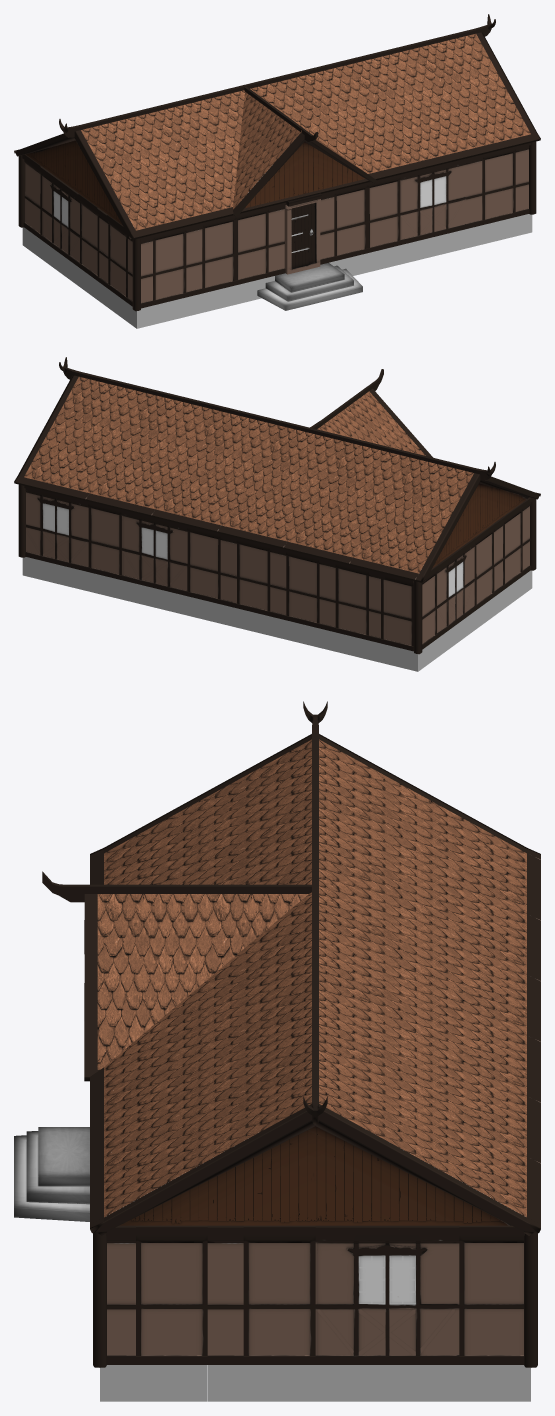
The model's file is house_I.fbx.
The picture shows the model from 3 angles, top to bottom: view 1: azimuth 30°, elevation 25°; view 2: azimuth 150°, elevation 25°; view 3: azimuth 270°, elevation 25°; orthographic projection. The views are drawn at different scales.
Parts seen in each view (by area): view 1: houseMesh, roofMesh, houseBase; view 2: houseMesh, roofMesh, houseBase; view 3: roofMesh, houseMesh, houseBase.
Boxes of the visible parts, x1,y1,x2,y2 form: houseMesh: (14, 14, 540, 311); roofMesh: (81, 33, 530, 230); houseBase: (22, 165, 532, 328); houseMesh: (14, 357, 540, 654); roofMesh: (24, 376, 473, 573); houseBase: (22, 557, 532, 671); roofMesh: (97, 739, 526, 1217); houseMesh: (14, 701, 540, 1367); houseBase: (100, 1365, 530, 1401).
Bounding box in the file's own units: 105 × 39.45 × 58.69.
